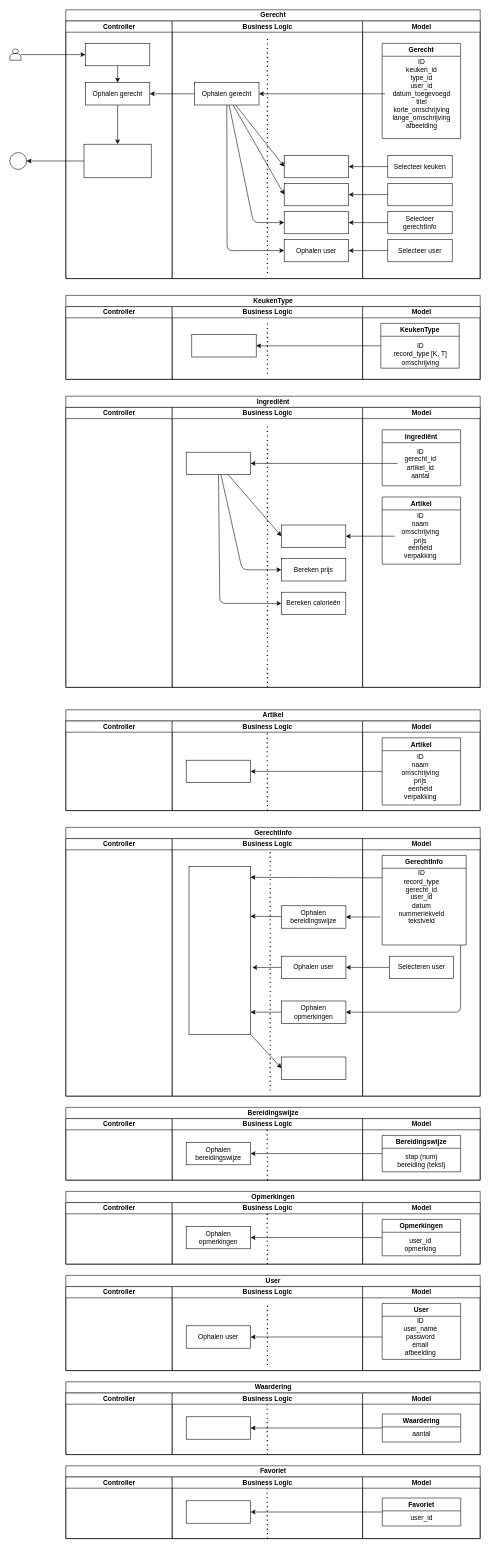
This 490x1550 diagram has some shape labels left out. Here are the shapes that lost their labels. From the top down, the centre of each, then its label:
At point (117, 54): "Initialisatie".
At point (117, 161): "Gerecht tonen".
At point (316, 166): "Ophalen keuken".
At point (316, 194): "Ophalen type".
At point (419, 194): "Selecteer type".
At point (316, 222): "Ophalen gerechtInfo (en waardering)".
At point (223, 345): "Selecteren keuken/type".
At point (218, 463): "Selecteren ingrediënten".
At point (313, 535): "Ophalen artikel".
At point (218, 771): "Selecteren artikel".
At point (219, 950): "Ophalen GerechtInfo".
At point (313, 1067): "Bereken waardering".
At point (218, 1427): "Ophalen waardering".
At point (218, 1511): "Favorieten ophalen".
